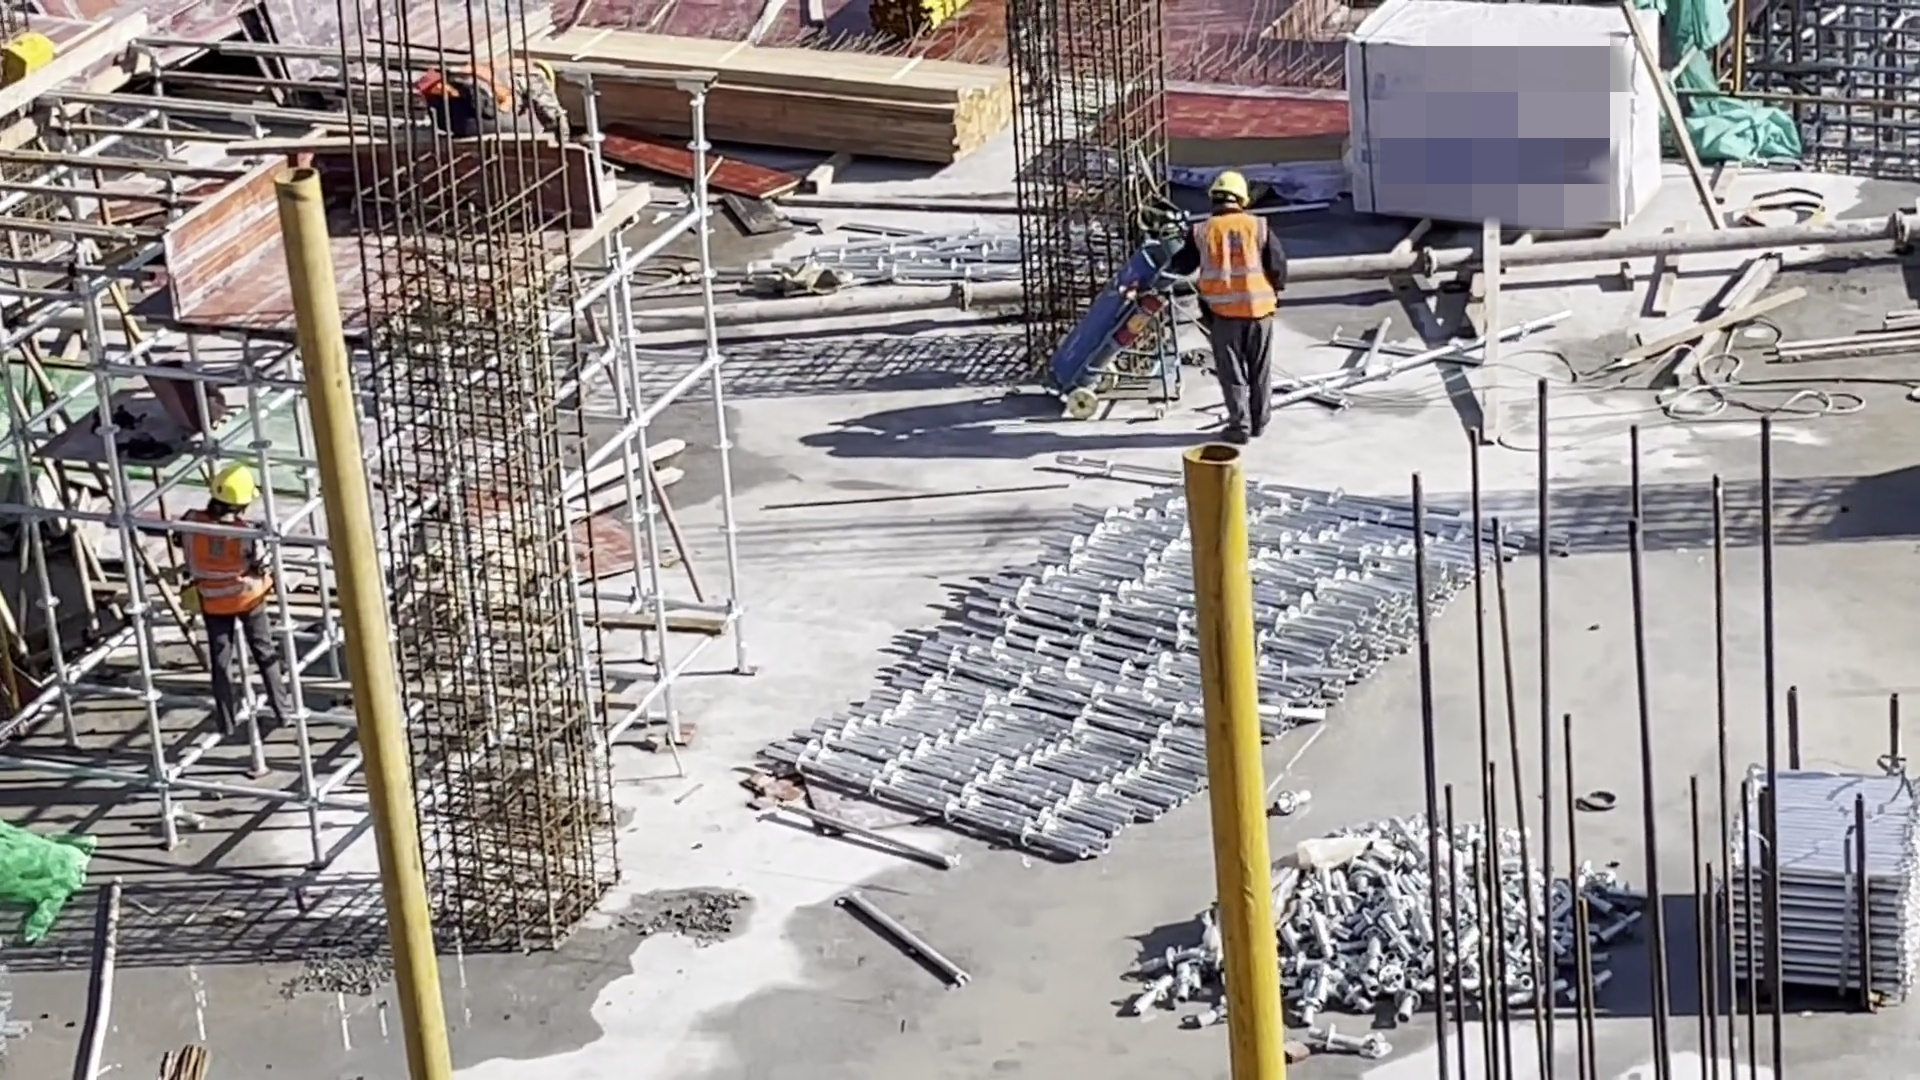helmet: (211, 461, 252, 513), (1207, 171, 1250, 202)
person: (184, 472, 293, 749), (1192, 169, 1297, 442), (428, 53, 584, 130)
vest: (184, 516, 278, 616), (1196, 214, 1274, 321), (429, 56, 526, 108)
